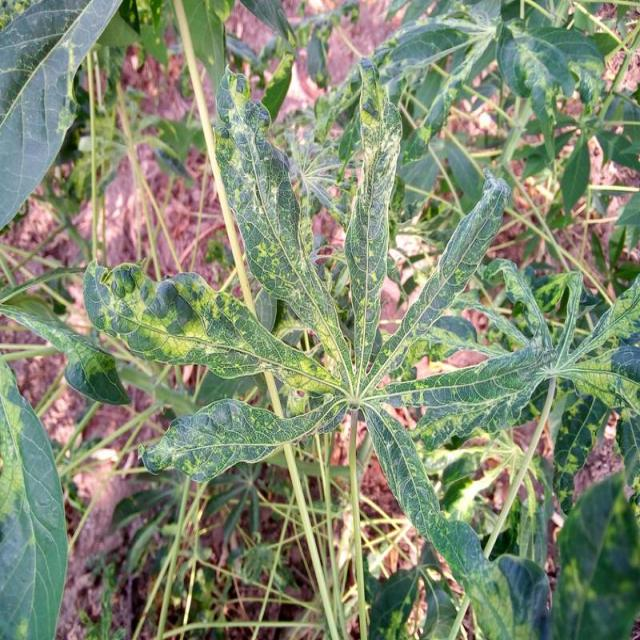cassava leaf: (79, 51, 638, 637), (210, 62, 352, 385), (82, 258, 347, 397), (0, 0, 122, 232), (0, 352, 69, 638)
